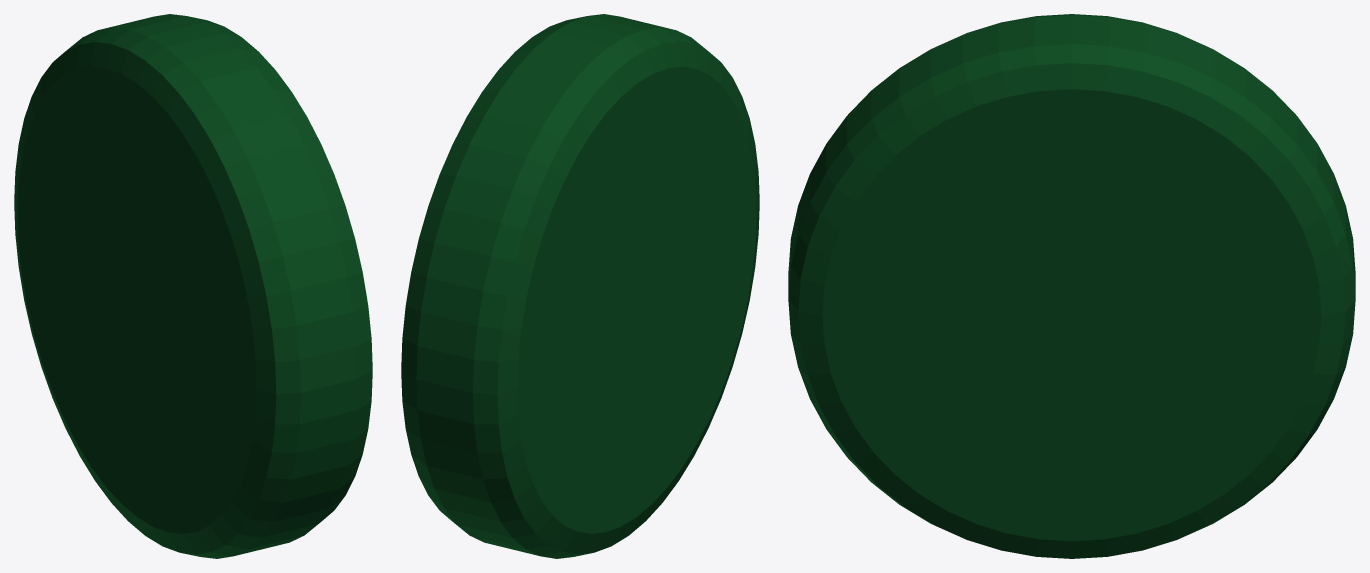
File: SM_WinchConfirmCap.obj
3 views of the same model, side by side, from view 1: azimuth 30°, elevation 25°; view 2: azimuth 150°, elevation 25°; view 3: azimuth 270°, elevation 25° (orthographic). The views are drawn at different scales.
Parts seen in each view (by area): view 1: SM_WinchConfirmCap; view 2: SM_WinchConfirmCap; view 3: SM_WinchConfirmCap.
Boxes of the visible parts, <box> form: SM_WinchConfirmCap: <box>14,14,372,558</box>; SM_WinchConfirmCap: <box>401,14,759,558</box>; SM_WinchConfirmCap: <box>788,14,1355,558</box>.
Size of the model in its own units: 1.2 by 5 by 5.
